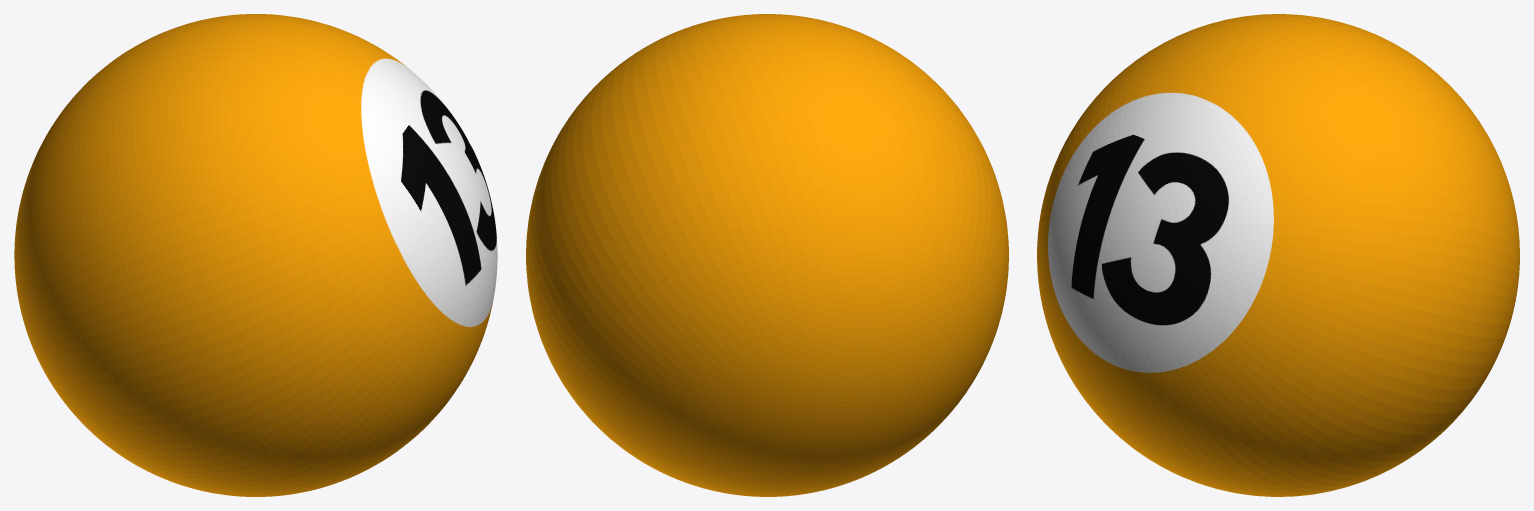
The picture shows the model from 3 angles, left to right: view 1: azimuth 30°, elevation 25°; view 2: azimuth 150°, elevation 25°; view 3: azimuth 270°, elevation 25°; orthographic projection.
Visible parts, largest first — view 1: Sphere; view 2: Sphere; view 3: Sphere.
Boxes of the visible parts, box(x1,y1,x2,y2) form: Sphere: box(14, 14, 497, 496); Sphere: box(526, 14, 1008, 496); Sphere: box(1037, 14, 1519, 496).
Size of the model in its own units: 3.7 by 3.7 by 3.7.
Materials: 1 (1 with a texture image).
